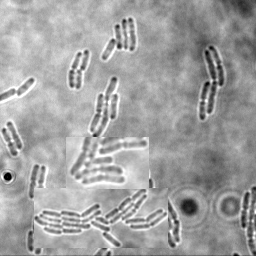Dividing: (67, 52, 81, 89), (1, 128, 18, 157), (28, 164, 39, 200), (239, 192, 249, 229), (34, 166, 47, 188)
Microcolony: (34, 188, 168, 248), (66, 137, 149, 189), (199, 45, 224, 121), (88, 76, 119, 137), (101, 18, 136, 61)
Rod: (5, 121, 23, 150), (16, 78, 34, 99), (79, 50, 89, 72), (73, 69, 82, 90)
